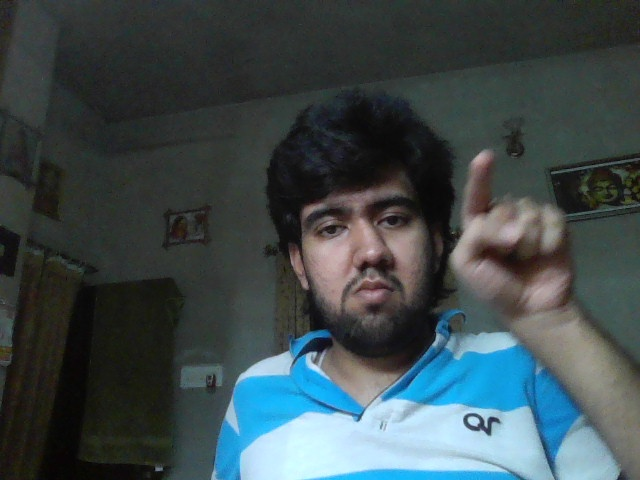You: (449, 150, 573, 308)
